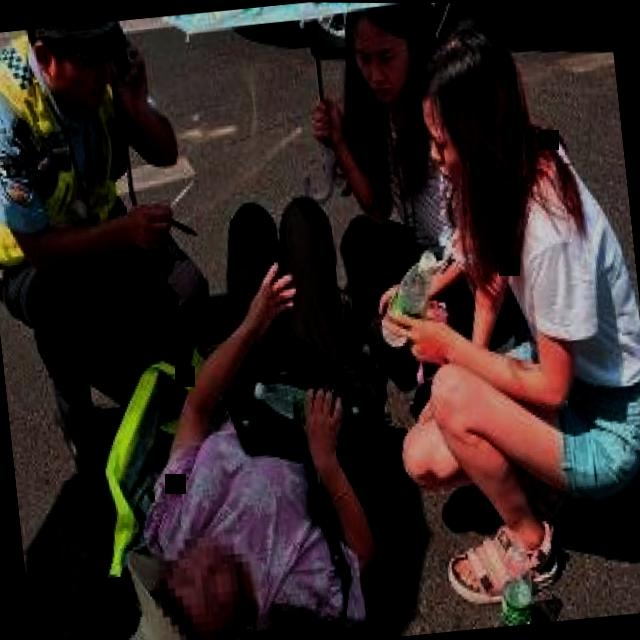Fall-Detected: (96, 156, 433, 640)
